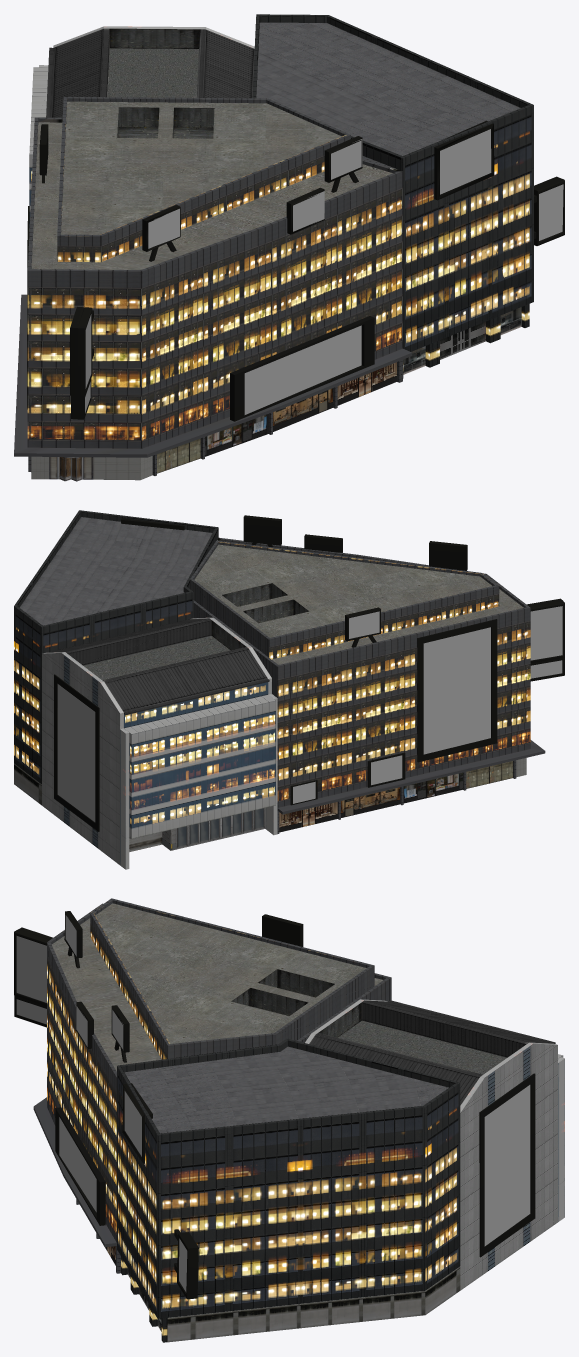
The model's file is BLD1310011.fbx.
3 views of the same model, one above another, from view 1: azimuth 30°, elevation 25°; view 2: azimuth 150°, elevation 25°; view 3: azimuth 270°, elevation 25° (orthographic). The views are drawn at different scales.
Parts seen in each view (by area): view 1: smBLD1310011; view 2: smBLD1310011; view 3: smBLD1310011.
Boxes of the visible parts, <box> form: smBLD1310011: <box>14,14,564,481</box>; smBLD1310011: <box>14,510,564,869</box>; smBLD1310011: <box>14,898,564,1342</box>.
Size of the model in its own units: 5326 by 2124 by 4548.
6 materials, 1 textured.
